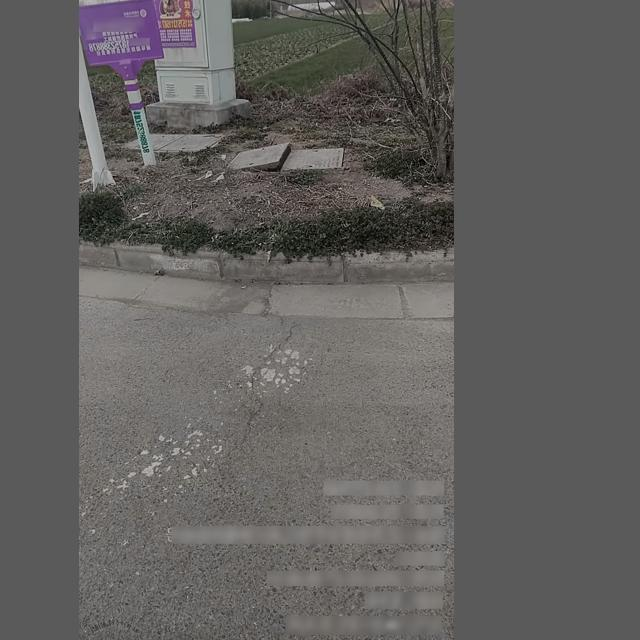uncovered: (226, 140, 348, 177)
